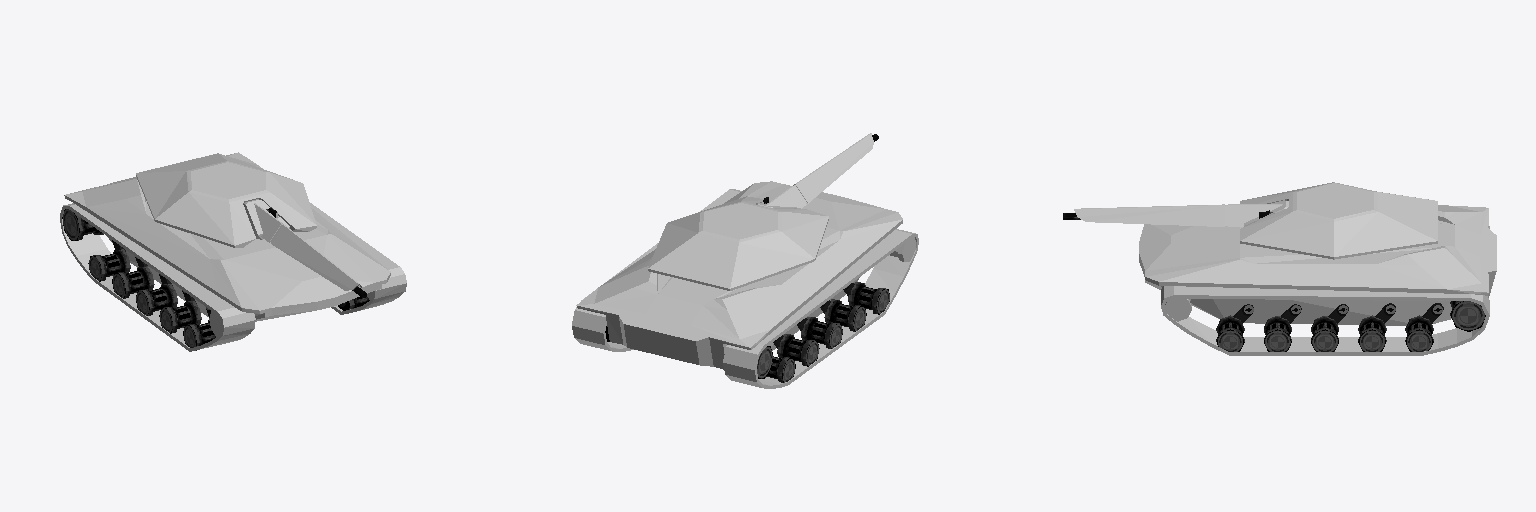
3 renders of one model, left to right at view 1: azimuth 30°, elevation 25°; view 2: azimuth 150°, elevation 25°; view 3: azimuth 270°, elevation 25°, orthographic.
Visible parts, largest first — view 1: body_Cube.003, tower_Cylinder.002, gusenitsi_Cube.005, gun_Cylinder.012, Cylinder.012_Cylinder.016, Cylinder.014_Cylinder.018, Cylinder.013_Cylinder.017, Cylinder.015_Cylinder.019, Cylinder.022_Cylinder.026, Cylinder.011_Cylinder.015; view 2: body_Cube.003, tower_Cylinder.002, gusenitsi_Cube.005, gun_Cylinder.012, Cylinder.012_Cylinder.016, Cylinder.014_Cylinder.018, Cylinder.013_Cylinder.017, Cylinder.011_Cylinder.015, Cylinder.015_Cylinder.019; view 3: body_Cube.003, tower_Cylinder.002, gusenitsi_Cube.005, gun_Cylinder.012, Cylinder.023_Cylinder.027, Cylinder.009_Cylinder.013, Cylinder.007_Cylinder.010, Cylinder.008_Cylinder.011, Cylinder.010_Cylinder.014, Cylinder.002_Cylinder.001.
Part boxes in pixels (bbox=[...]): body_Cube.003: bbox=[64, 152, 390, 321]; tower_Cylinder.002: bbox=[136, 153, 316, 247]; gusenitsi_Cube.005: bbox=[60, 202, 406, 351]; gun_Cylinder.012: bbox=[243, 199, 361, 290]; Cylinder.012_Cylinder.016: bbox=[159, 301, 201, 333]; Cylinder.014_Cylinder.018: bbox=[112, 266, 154, 298]; Cylinder.013_Cylinder.017: bbox=[136, 284, 177, 315]; Cylinder.015_Cylinder.019: bbox=[88, 249, 130, 281]; Cylinder.022_Cylinder.026: bbox=[62, 209, 103, 240]; Cylinder.011_Cylinder.015: bbox=[183, 320, 215, 350]; body_Cube.003: bbox=[576, 181, 902, 369]; tower_Cylinder.002: bbox=[648, 196, 828, 290]; gusenitsi_Cube.005: bbox=[572, 189, 918, 388]; gun_Cylinder.012: bbox=[757, 133, 873, 208]; Cylinder.012_Cylinder.016: bbox=[824, 299, 866, 331]; Cylinder.014_Cylinder.018: bbox=[777, 334, 819, 366]; Cylinder.013_Cylinder.017: bbox=[801, 317, 842, 348]; Cylinder.011_Cylinder.015: bbox=[848, 282, 889, 314]; Cylinder.015_Cylinder.019: bbox=[766, 356, 795, 382]; body_Cube.003: bbox=[1139, 205, 1496, 325]; tower_Cylinder.002: bbox=[1240, 182, 1437, 259]; gusenitsi_Cube.005: bbox=[1161, 226, 1489, 355]; gun_Cylinder.012: bbox=[1074, 200, 1288, 226]; Cylinder.023_Cylinder.027: bbox=[1450, 301, 1485, 331]; Cylinder.009_Cylinder.013: bbox=[1358, 315, 1386, 351]; Cylinder.007_Cylinder.010: bbox=[1264, 316, 1291, 351]; Cylinder.008_Cylinder.011: bbox=[1311, 316, 1338, 351]; Cylinder.010_Cylinder.014: bbox=[1405, 315, 1433, 351]; Cylinder.002_Cylinder.001: bbox=[1216, 315, 1244, 351].
Size of the model in its own units: 2.1 by 1.21 by 4.31.
11 materials, 3 textured.